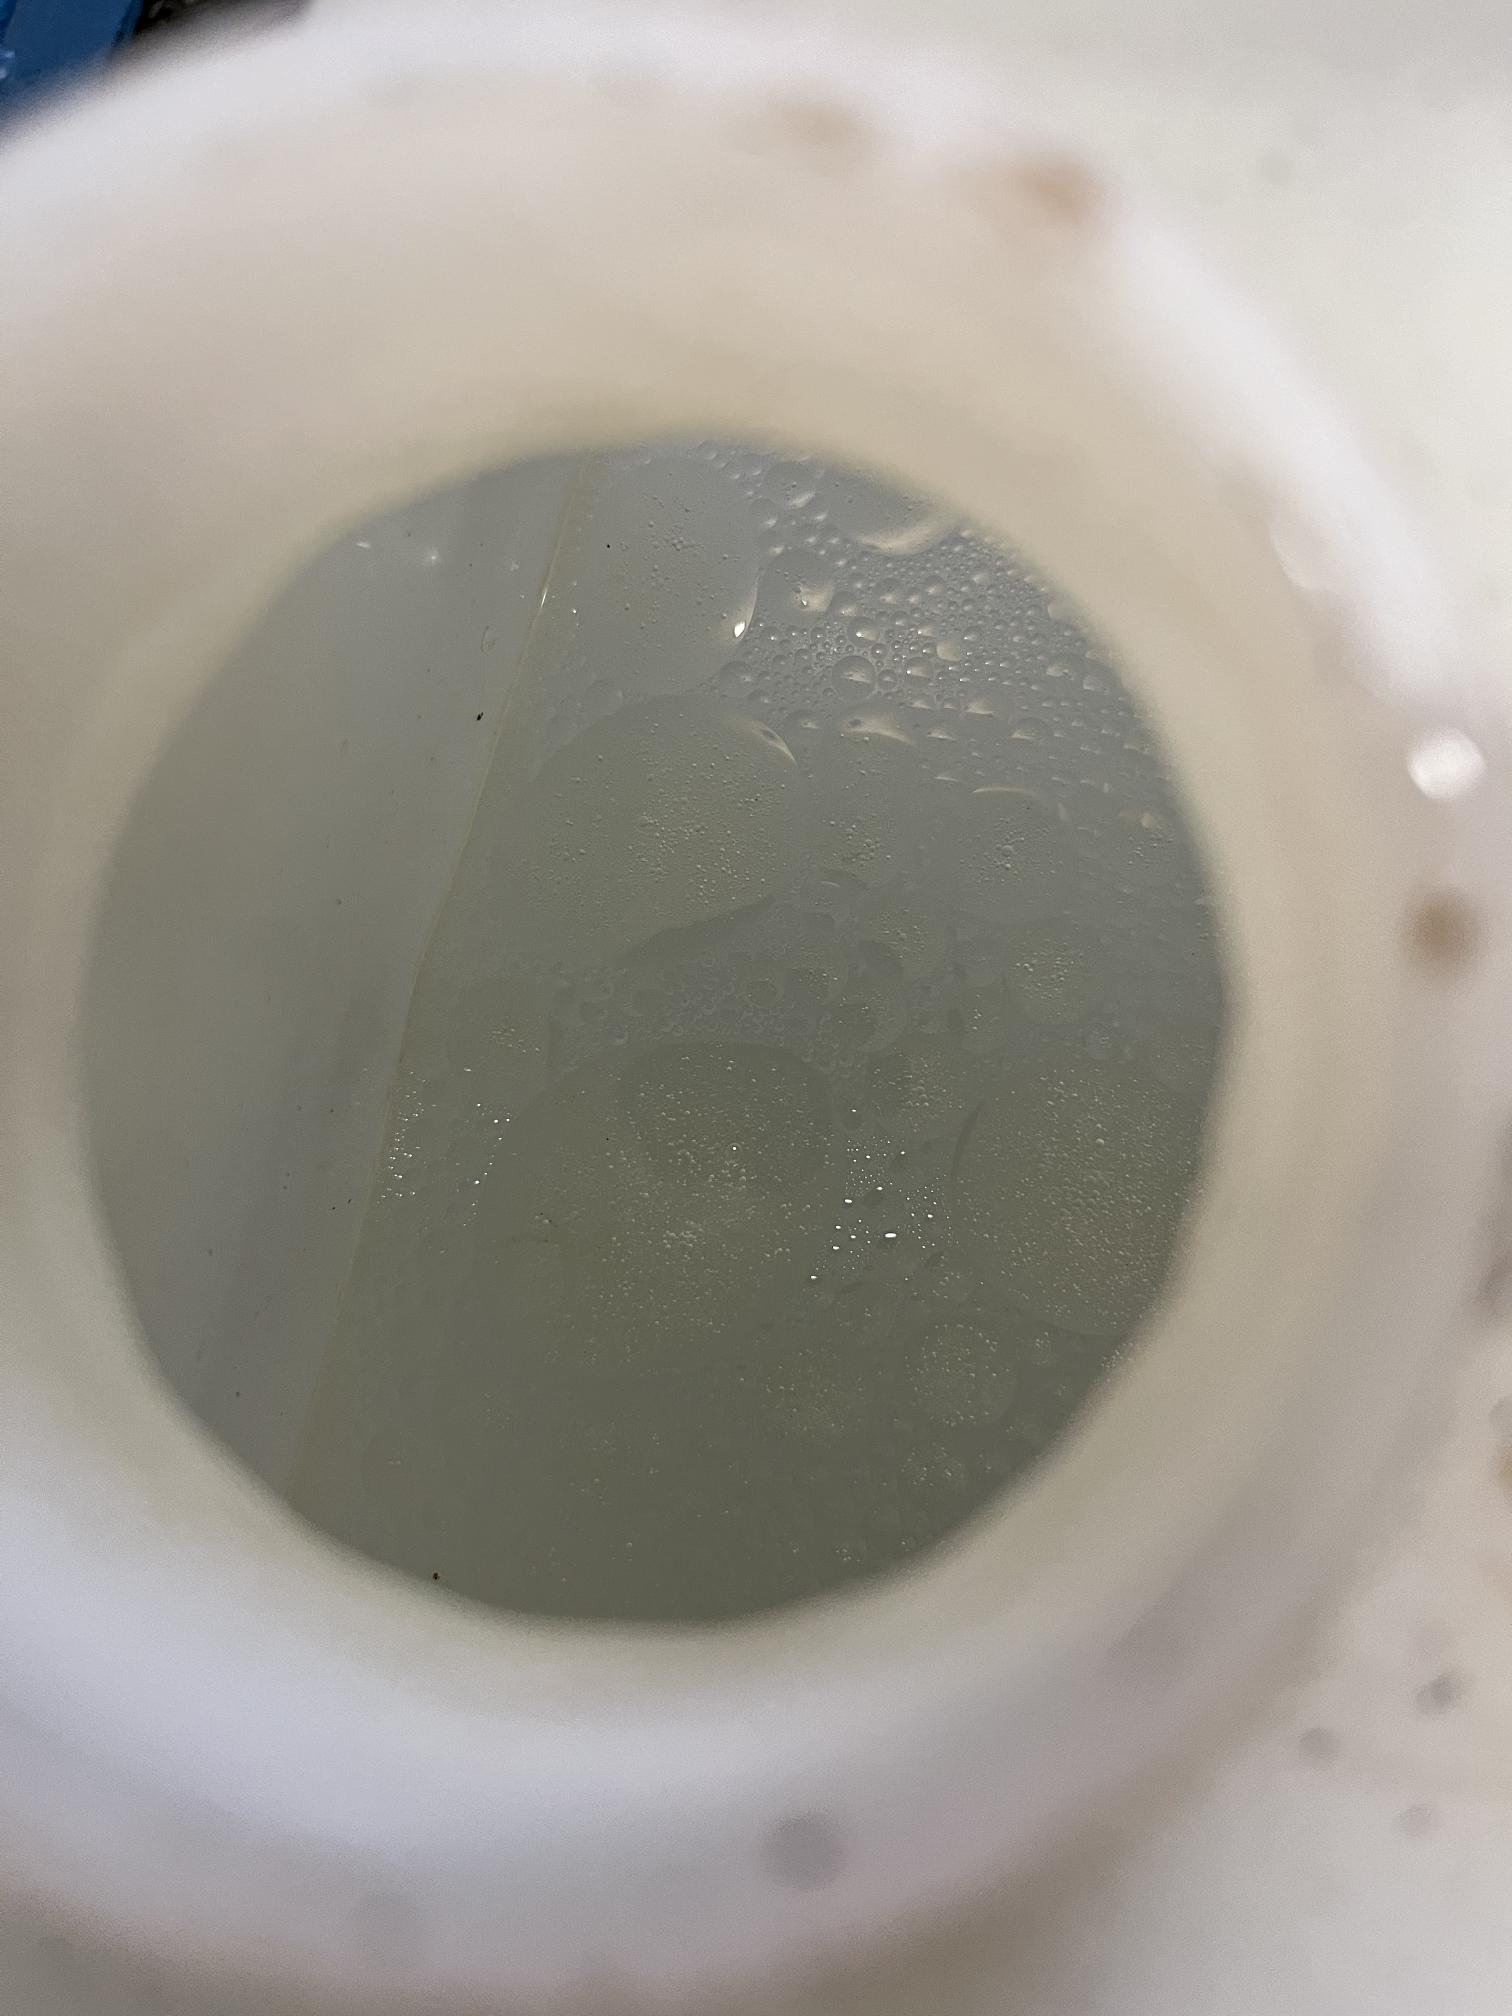Presenca de Oleo - - 10ml: (41, 398, 1358, 1757)
